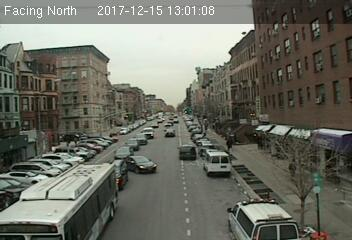bus: (1, 162, 118, 240)
car: (202, 150, 231, 176), (124, 155, 158, 175), (176, 144, 198, 161), (115, 146, 135, 161), (124, 138, 140, 151), (163, 129, 176, 137)
pedestrian: (225, 137, 235, 154)
police: (227, 196, 301, 240)
